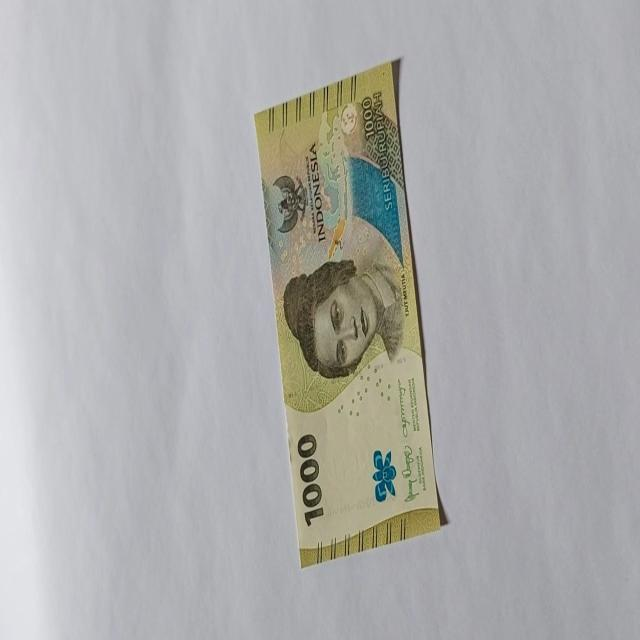seribu rupiah kertas: (253, 59, 443, 568)
